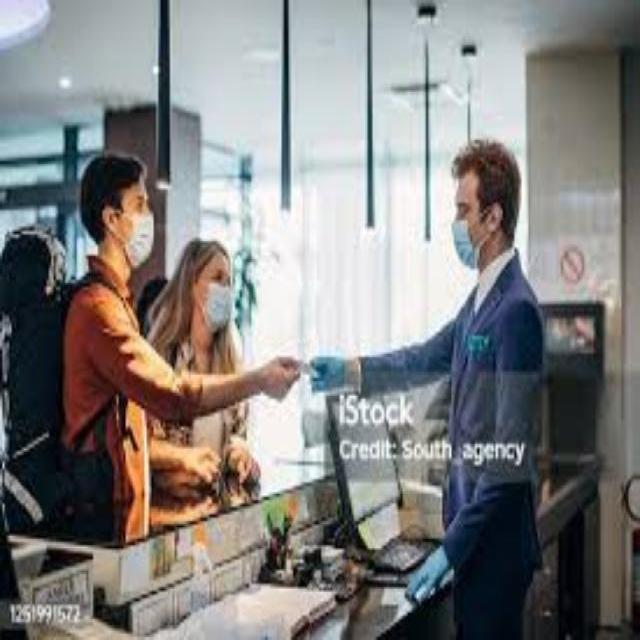bare_hand: (255, 354, 304, 426), (223, 429, 265, 488), (177, 444, 226, 491)
gloved_hand: (402, 524, 465, 604), (307, 355, 355, 404)
